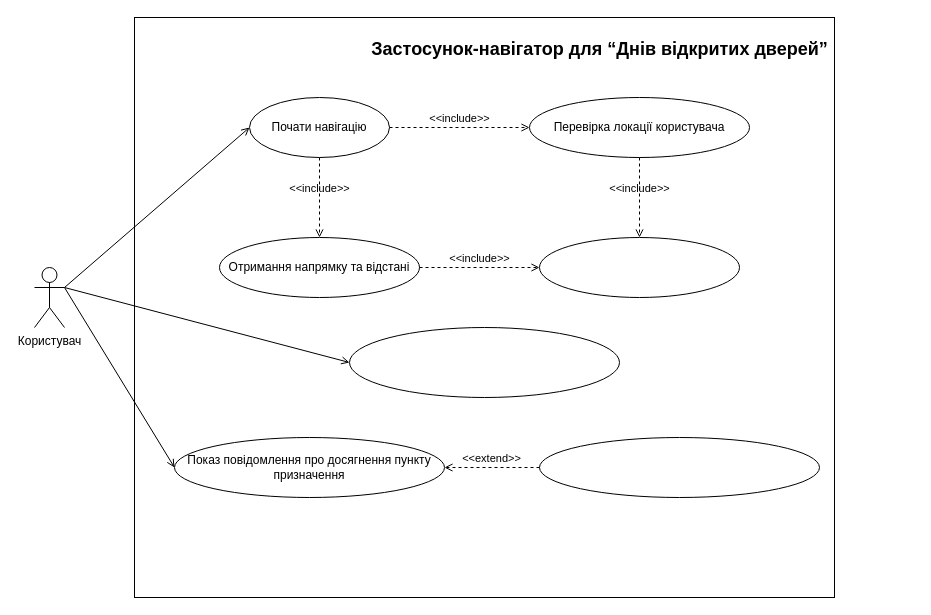
Image size: 931x615. Some labels were removed from this diagram. Here are the shapes that lost their labels. From the top down, the box of each, then its label:
(538, 236, 740, 298): Використання GPS для визначення координат
(348, 326, 620, 398): Отримання підказок щодо спеціальності при переміщенні в фойє
(538, 436, 820, 498): Відкриття сторінки з інформацією про спеціальність
